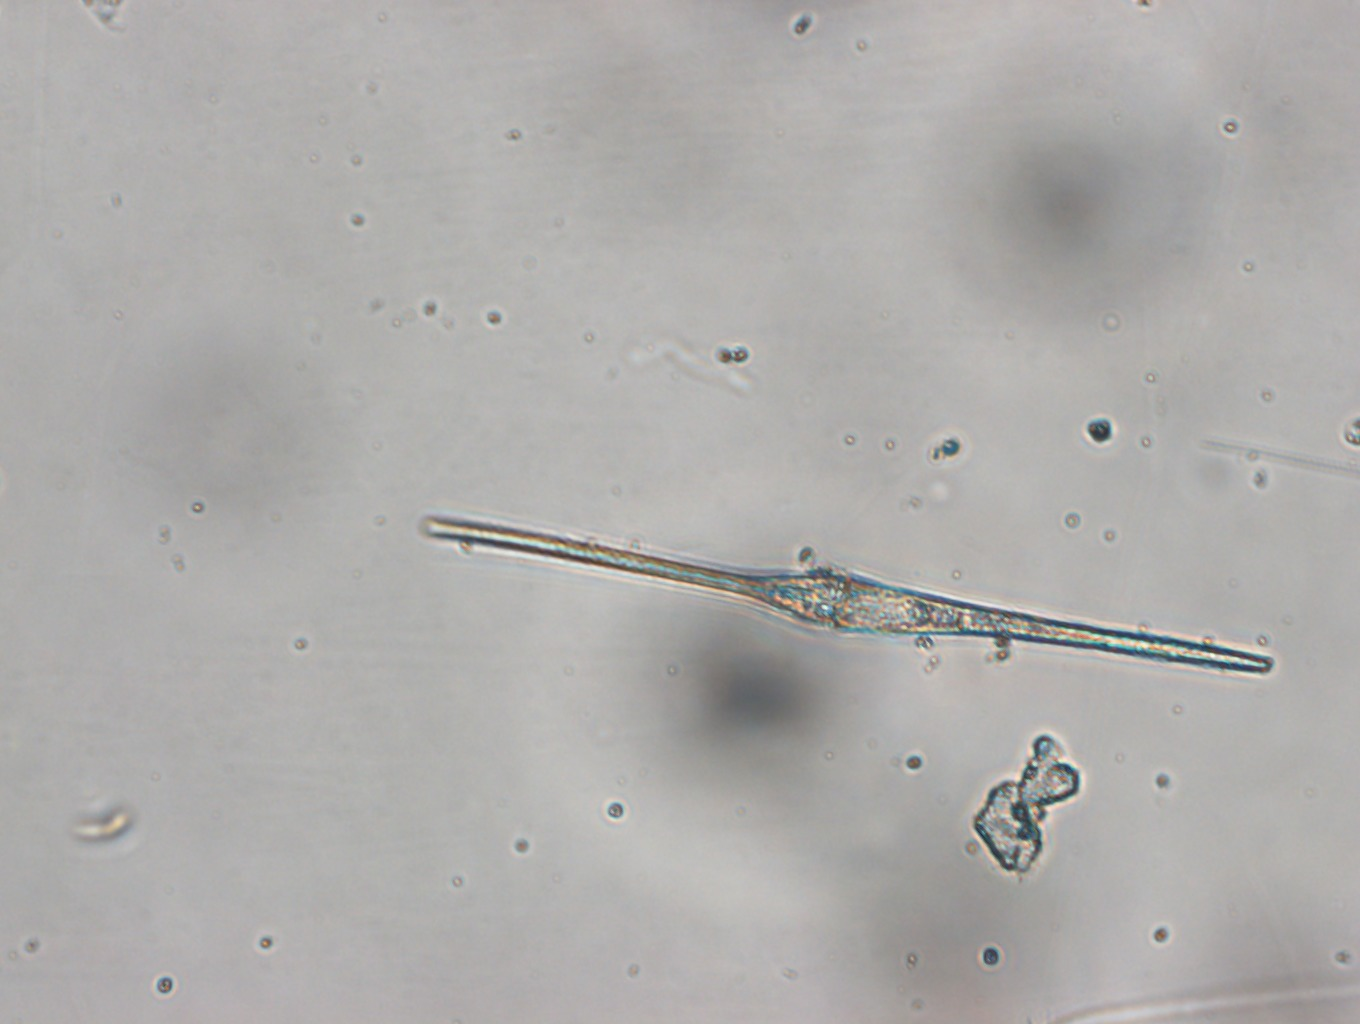ceratium fusus: (423, 515, 1273, 679)
